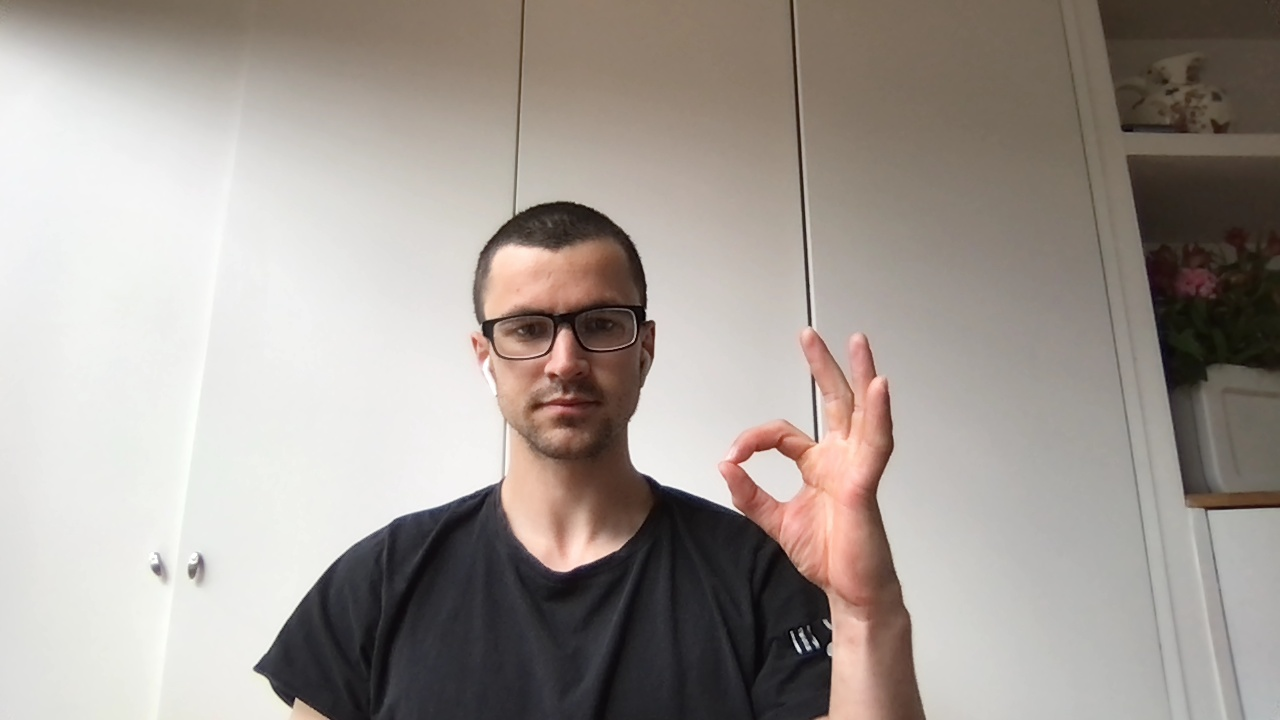thankYou: (719, 327, 895, 605)
